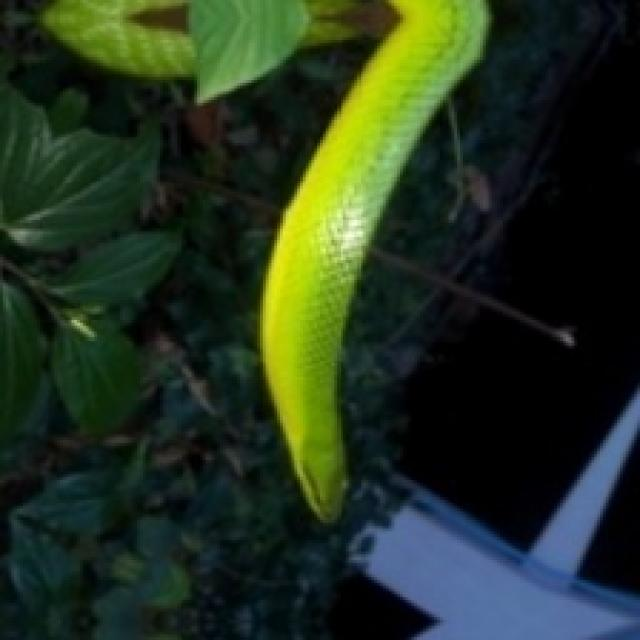red-tailed green ratsnake: (260, 0, 486, 520), (42, 0, 194, 78)
